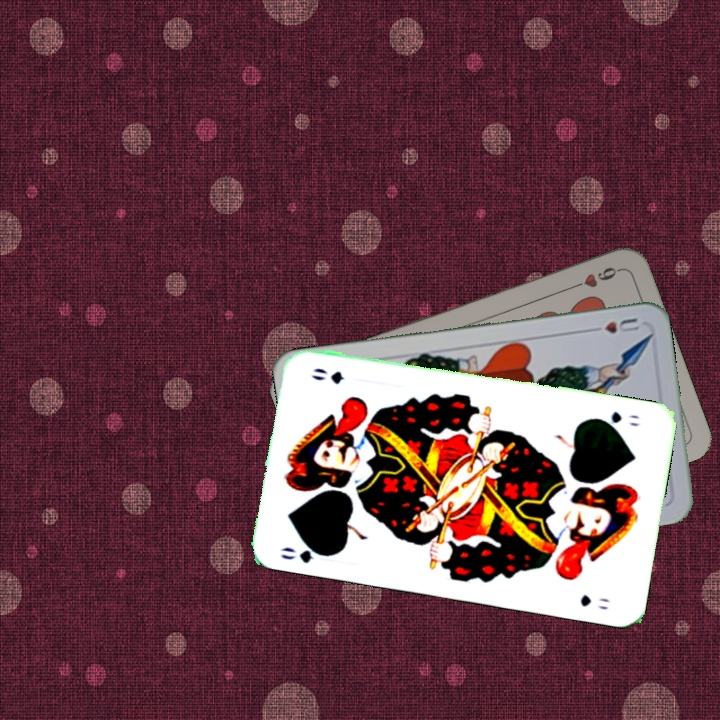GO: (276, 538, 334, 566), (591, 407, 642, 429)
H9: (566, 263, 623, 292)
HU: (584, 314, 642, 336)
